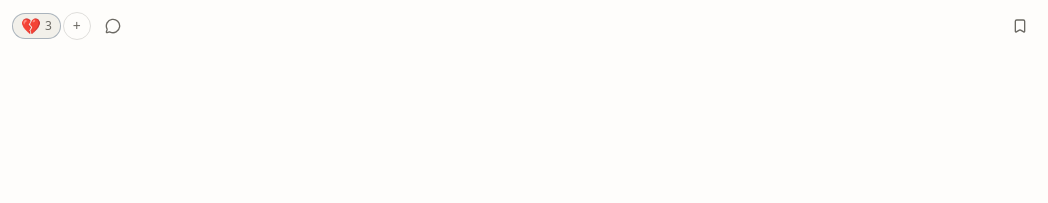
ReactionBar › adds an unused fixed reaction from the picker without replacing existing selections
What coordinates should you click on to do the following:
click the button named "Add reaction"
I would click on:
 (77, 26)
Its box is left=63, top=12, right=91, bottom=40.
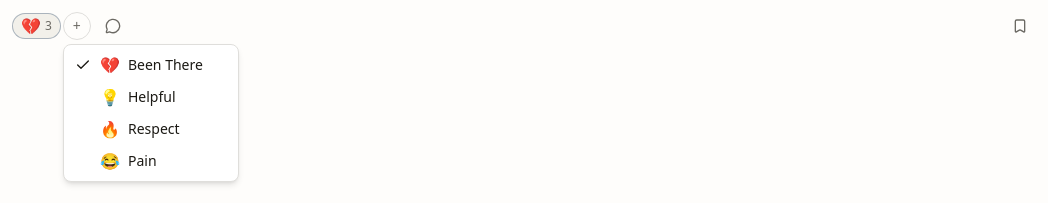
What coordinates should you click on to do the following:
click the menu item "💡 Helpful"
I would click on:
 (138, 97)
Its box is left=100, top=86, right=176, bottom=108.
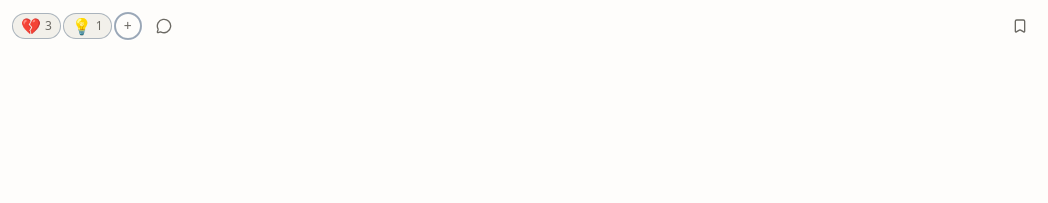
Expected: the menu is gone
